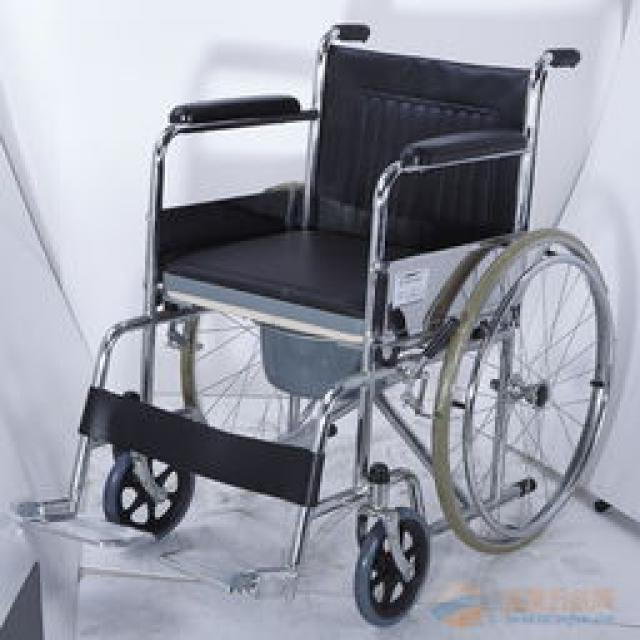wheelchair: (15, 20, 623, 618)
